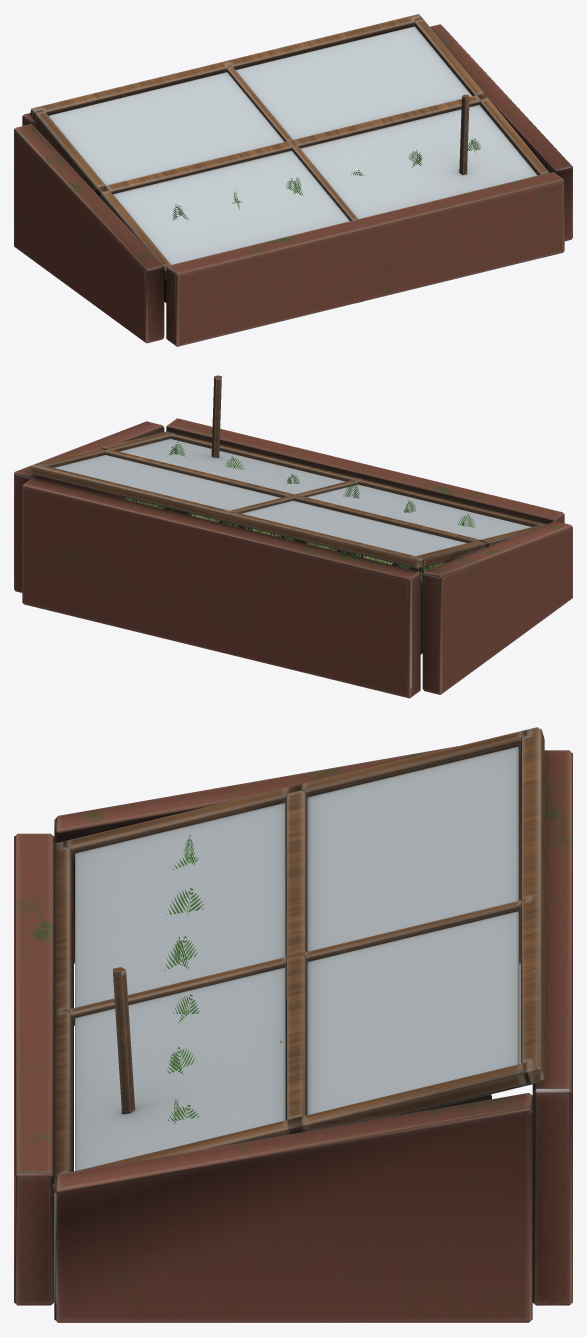
The model's file is ColdFrame.fbx.
The picture shows the model from 3 angles, top to bottom: view 1: azimuth 30°, elevation 25°; view 2: azimuth 150°, elevation 25°; view 3: azimuth 270°, elevation 25°; orthographic projection. The views are drawn at different scales.
Visible parts, largest first — view 1: ColdFrame_Main, ColdFrame_Glass, ColdFrame_Leaves; view 2: ColdFrame_Main, ColdFrame_Glass, ColdFrame_Leaves; view 3: ColdFrame_Main, ColdFrame_Glass, ColdFrame_Leaves.
Boxes of the visible parts, box(x1,y1,x2,y2) form: ColdFrame_Main: box(14, 14, 572, 346); ColdFrame_Glass: box(48, 26, 537, 264); ColdFrame_Leaves: box(172, 113, 481, 220); ColdFrame_Main: box(14, 375, 572, 698); ColdFrame_Glass: box(53, 438, 531, 555); ColdFrame_Leaves: box(115, 442, 475, 584); ColdFrame_Main: box(14, 727, 572, 1322); ColdFrame_Glass: box(75, 746, 519, 1170); ColdFrame_Leaves: box(164, 835, 282, 1124).
Size of the model in its own units: 484 by 165 by 304.
